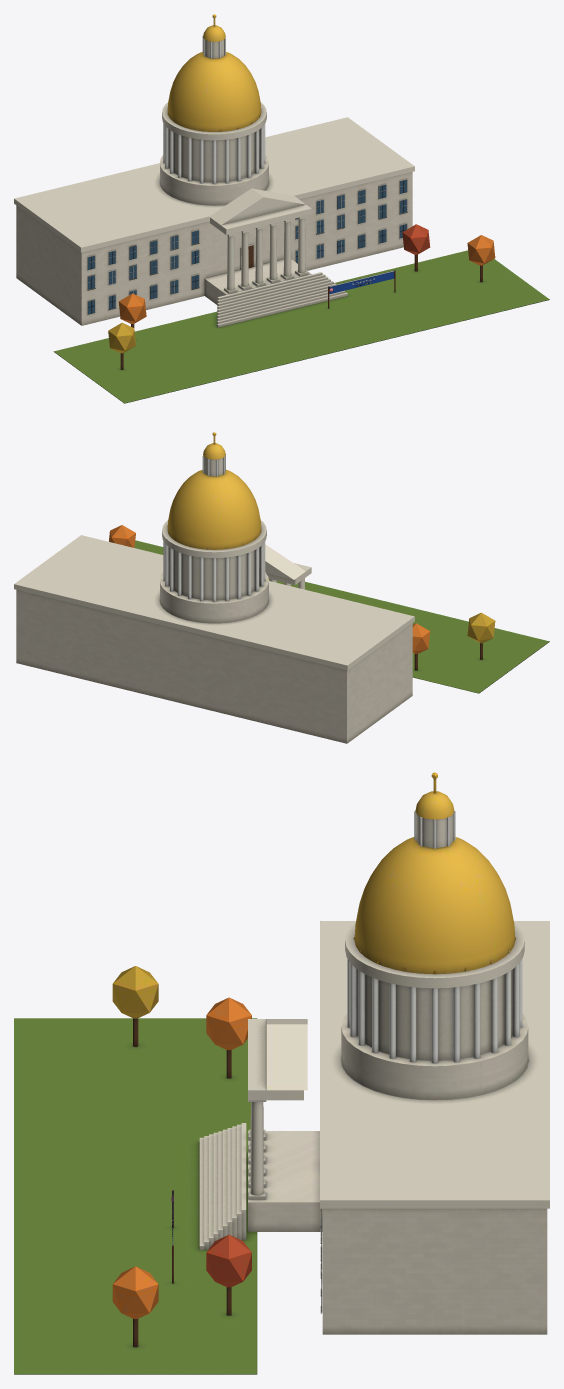
File: capitolio_wv.glb
3 renders of one model, top to bottom at view 1: azimuth 30°, elevation 25°; view 2: azimuth 150°, elevation 25°; view 3: azimuth 270°, elevation 25°, orthographic. The views are drawn at different scales.
Visible parts, largest first — view 1: capitolio_wv; view 2: capitolio_wv; view 3: capitolio_wv.
Boxes of the visible parts, x1=… form: capitolio_wv: x1=14, y1=14, x2=549, y2=403; capitolio_wv: x1=14, y1=432, x2=549, y2=743; capitolio_wv: x1=14, y1=772, x2=549, y2=1374.
Size of the model in its own units: 90 by 50.05 by 57.3.
1 material, 1 textured.
